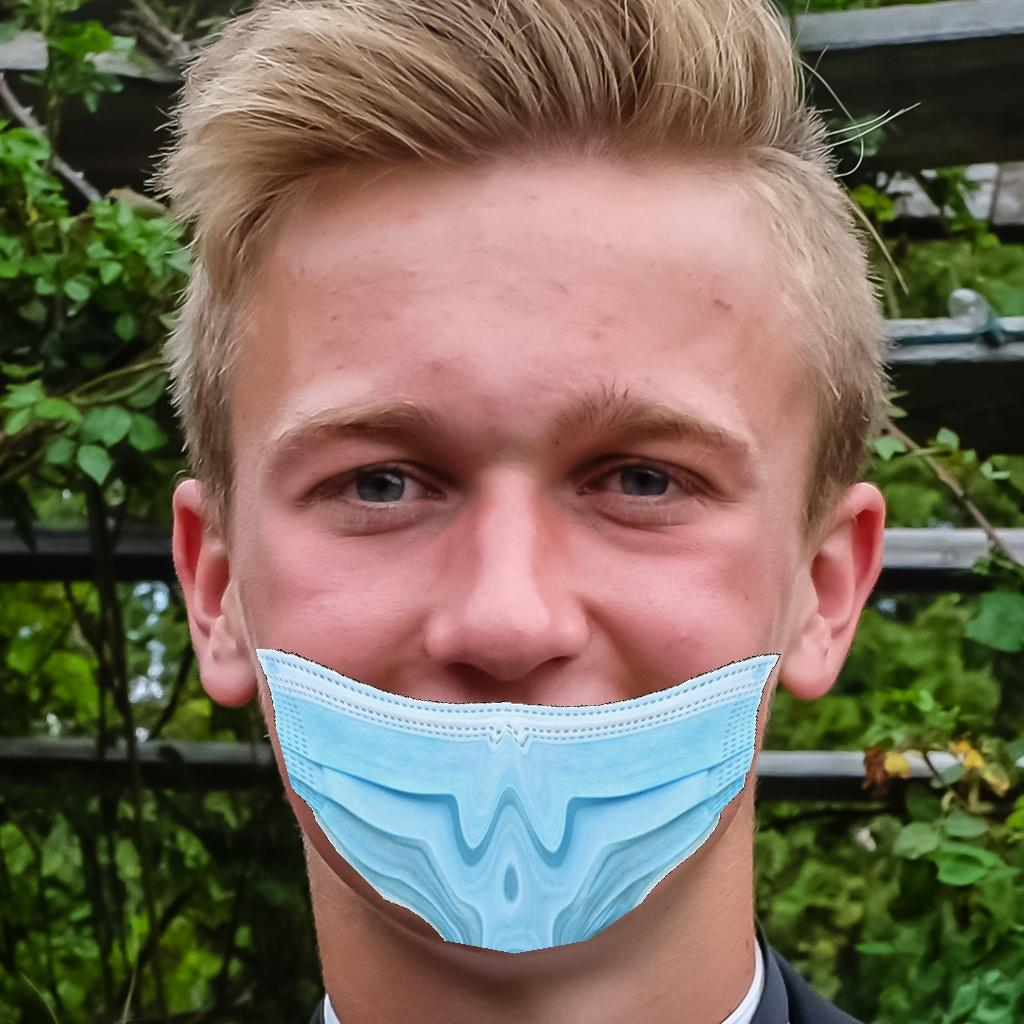Máscara Incorreta: (203, 269, 770, 894)
